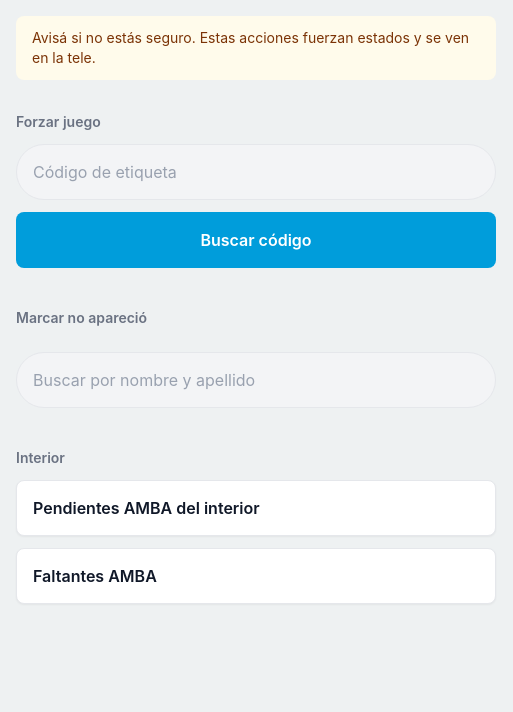
Test case: ToolsPage › does not show pending rollback for volunteers on a delivered game
In the search field named "Buscar juego por código": (256, 172) [16, 144, 496, 200], type "123"
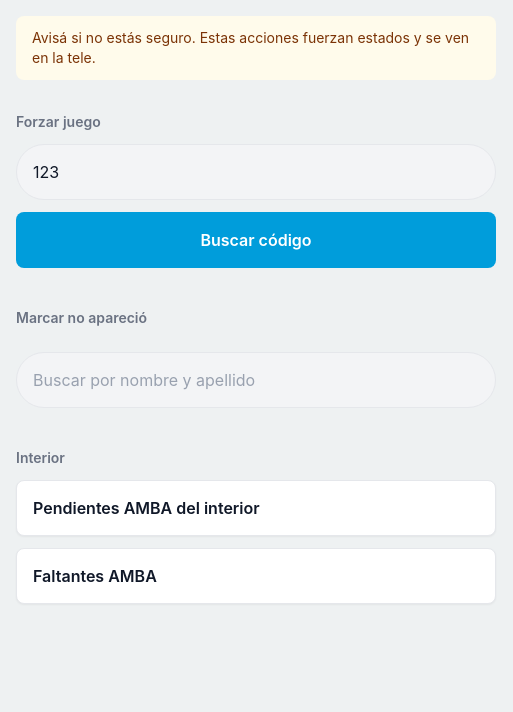
Click the button "Buscar código": (256, 240) [16, 212, 496, 268]
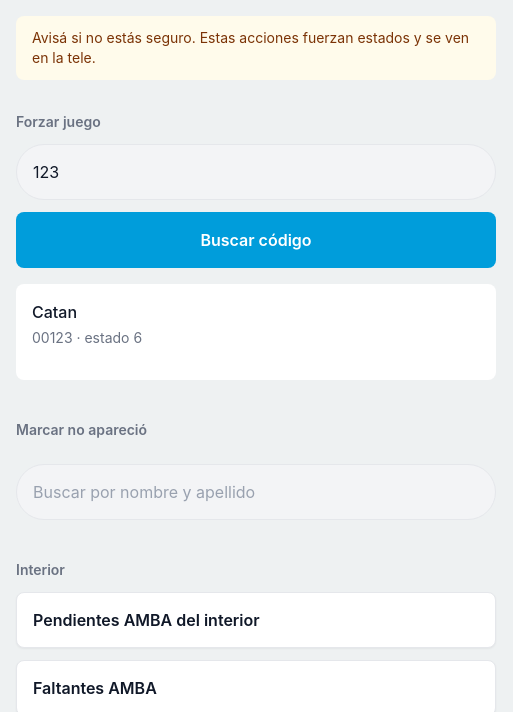
Check: the text "00123 · estado 6" is shown, box [32, 329, 142, 346]
